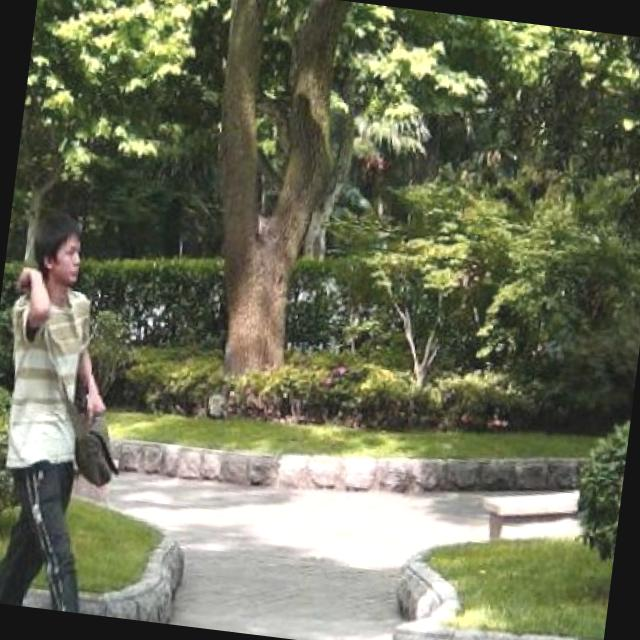Person: (0, 220, 138, 613)
